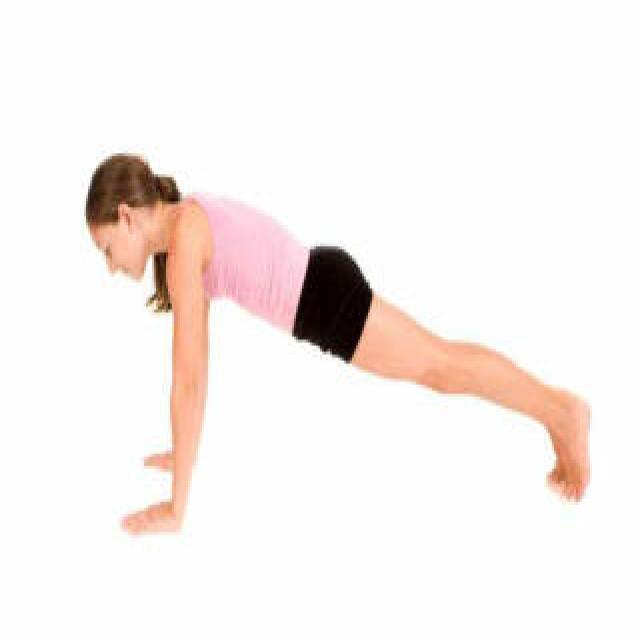yoga-pose plank: (84, 148, 599, 532)
